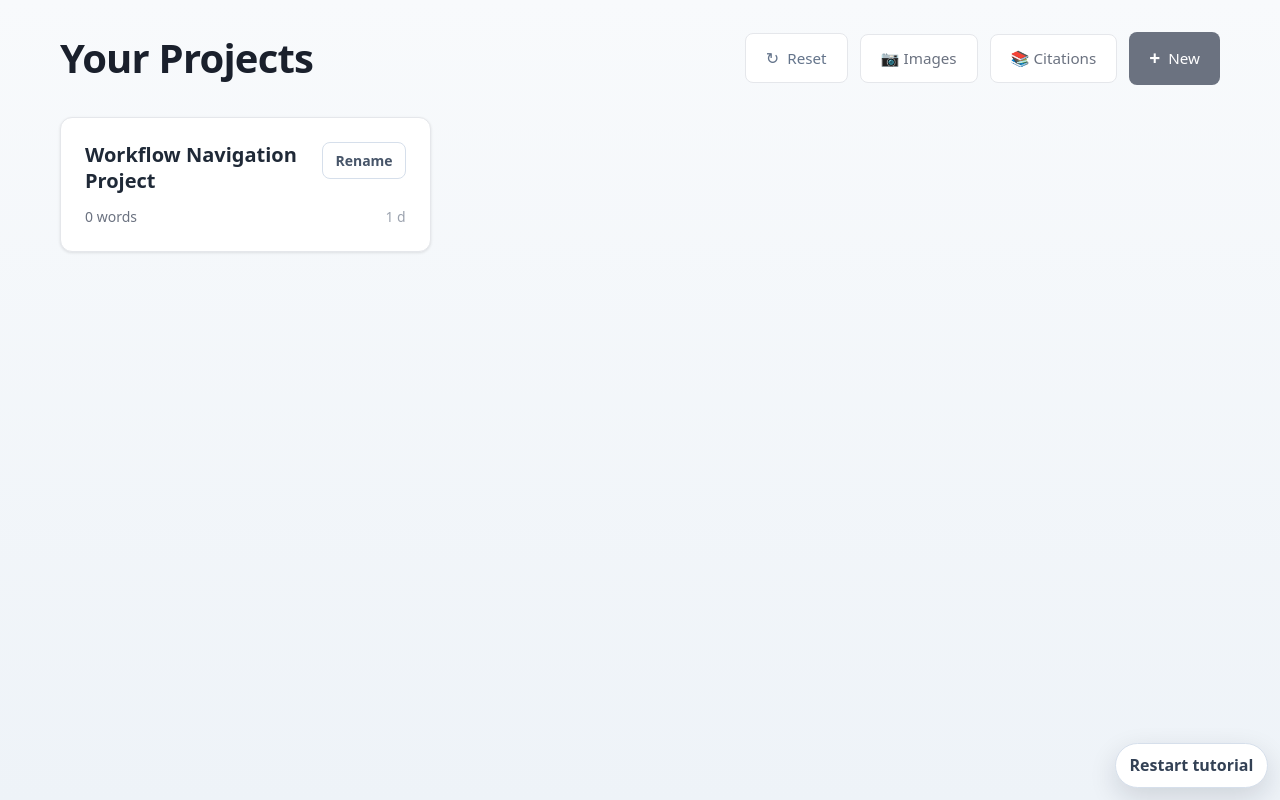
Test: opens the workflow home from the dashboard project card
This screenshot has width=1280, height=800.
What coordinates should you click on to do the following:
click the heading "Workflow Navigation Project"
I would click on:
 (196, 168)
Its box is [85,142,306,194].
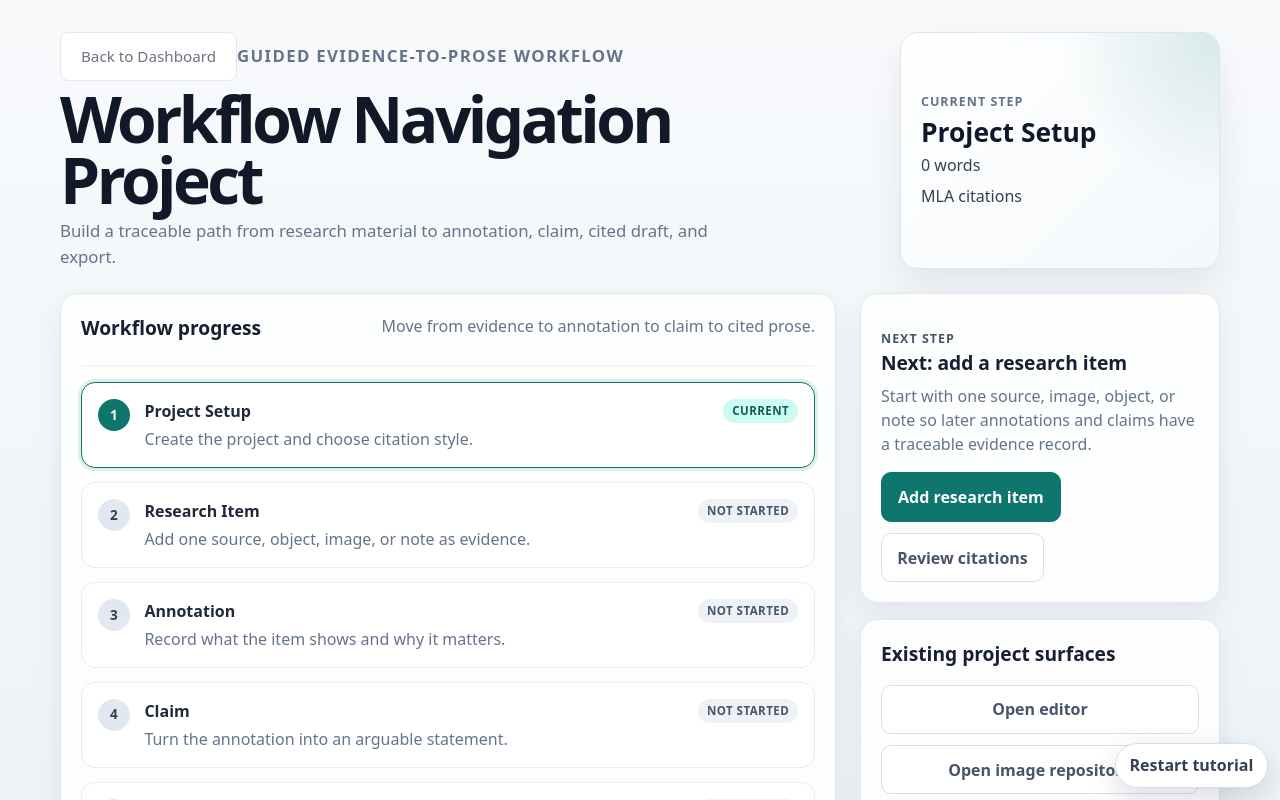
Expected: the heading "Workflow Navigation Project" is shown, [60,75,671,223]
Result: the text "Guided evidence-to-prose workflow" is shown at [237,43,624,68]
